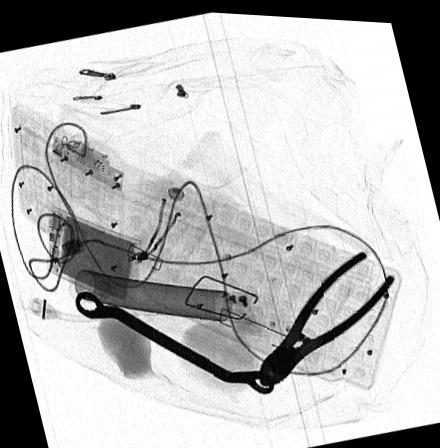Pliers: (256, 246, 399, 384)
Powerbank: (40, 205, 139, 305)
Wrench: (72, 289, 275, 392)
